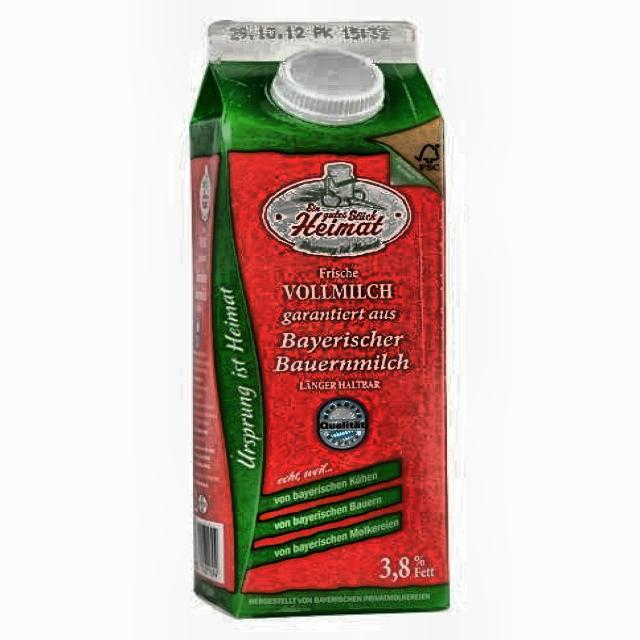cardboard: (188, 19, 450, 619)
